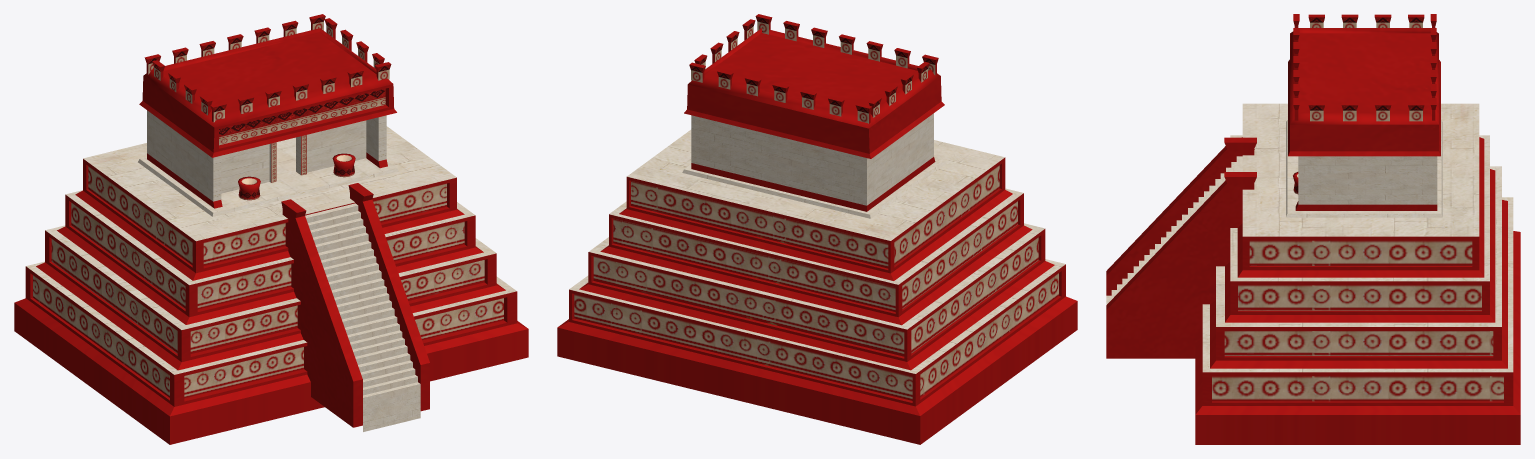
The model's file is temple_3.dae.
3 renders of one model, left to right at view 1: azimuth 30°, elevation 25°; view 2: azimuth 150°, elevation 25°; view 3: azimuth 270°, elevation 25°, orthographic. The views are drawn at different scales.
Visible parts, largest first — view 1: TEMPLE3; view 2: TEMPLE3; view 3: TEMPLE3.
Boxes of the visible parts, bbox=[...] form: TEMPLE3: bbox=[14, 14, 528, 444]; TEMPLE3: bbox=[557, 14, 1077, 444]; TEMPLE3: bbox=[1106, 14, 1520, 444].
Bounding box in the file's own units: 35.86 × 34.27 × 26.83.
